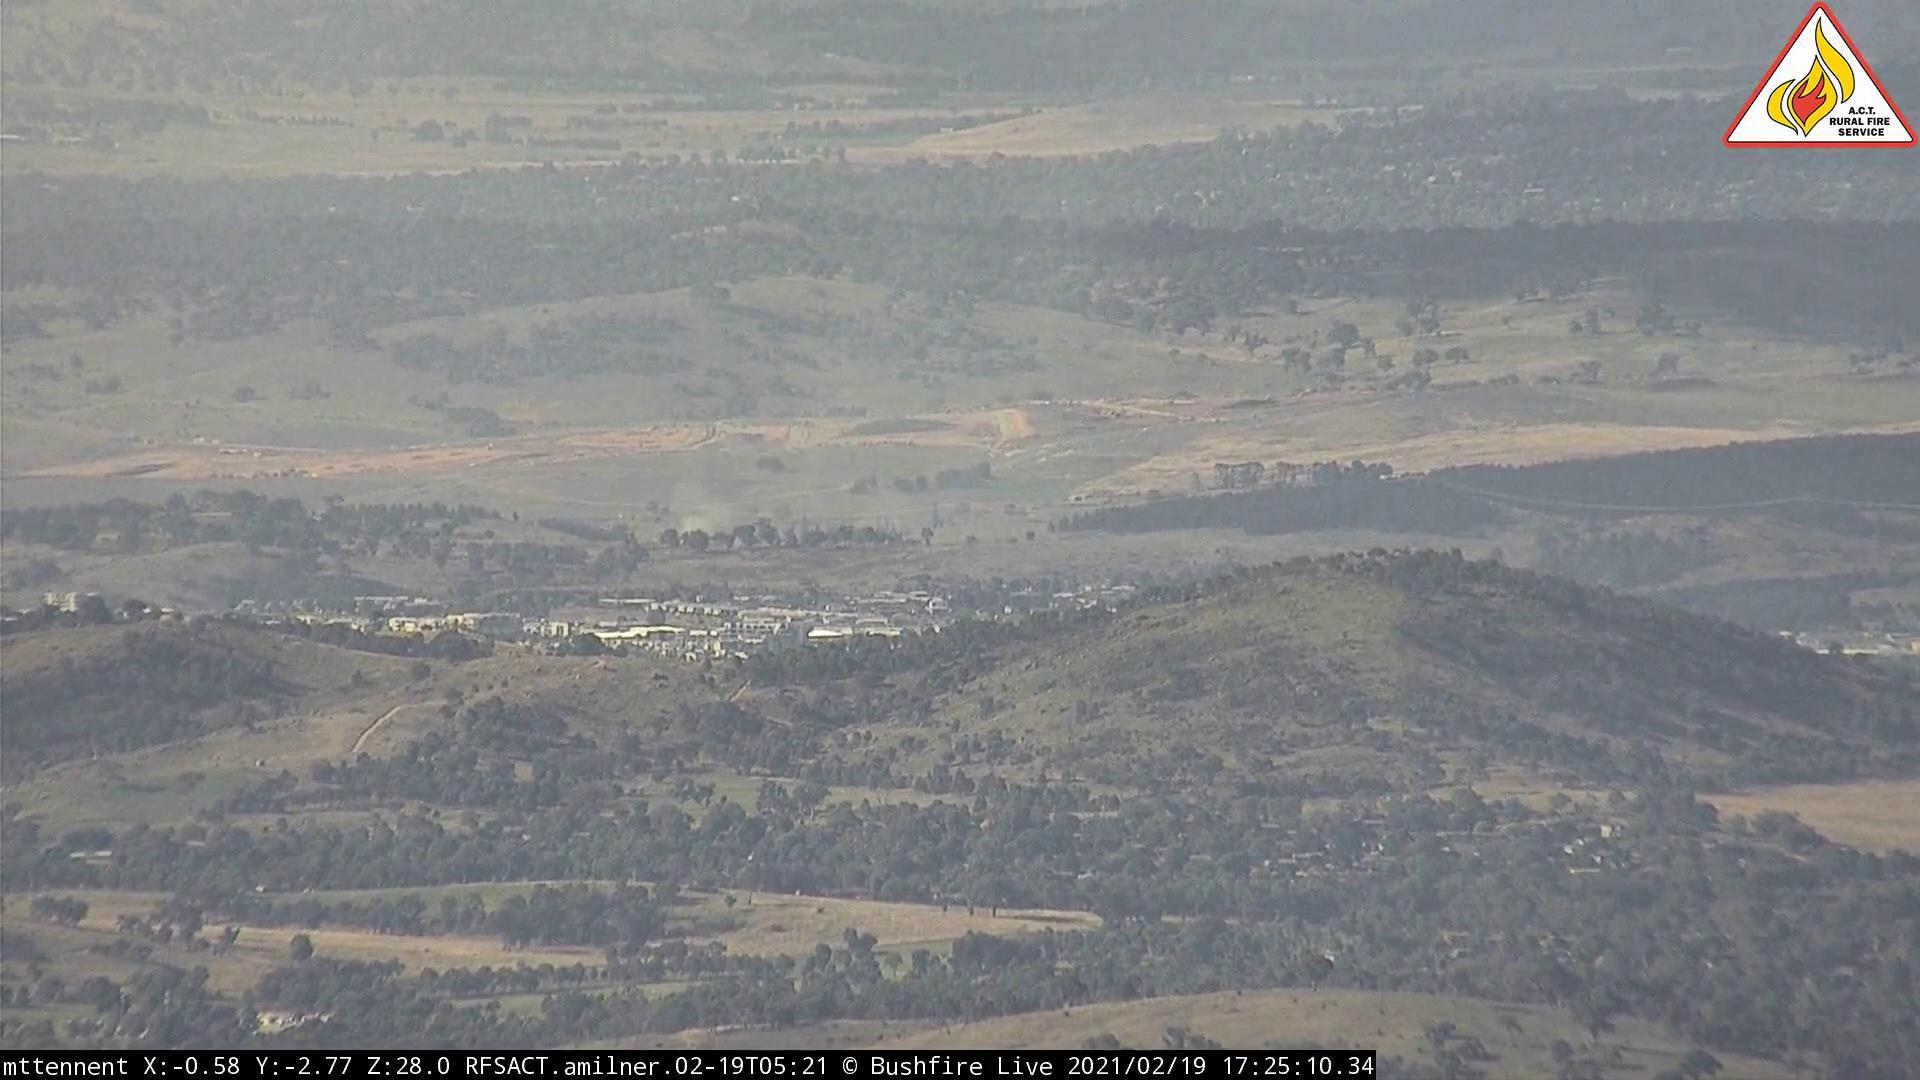Smoke: (644, 465, 775, 556)
